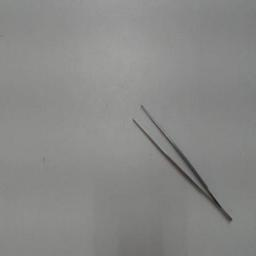Gillies Toothed Dissector: (128, 96, 236, 226)
